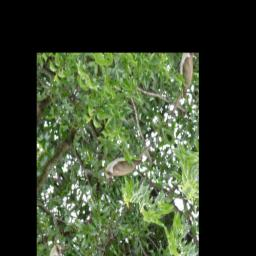Cuckoo: (99, 115, 157, 198)
